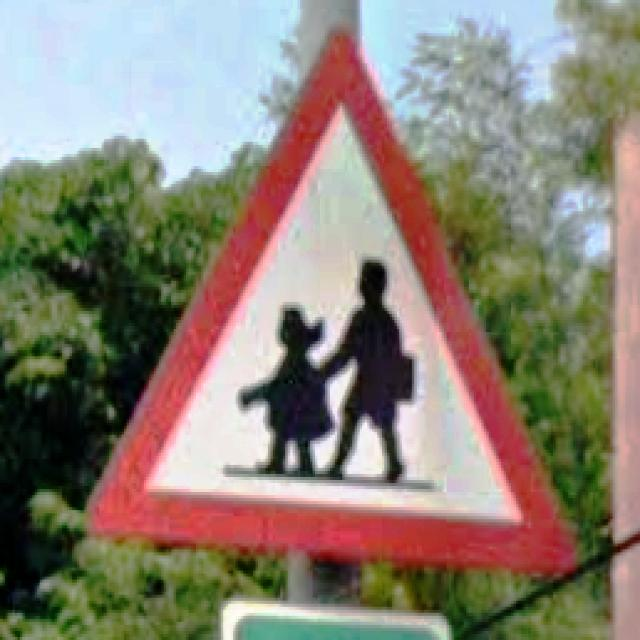childrencross: (89, 34, 573, 568)
